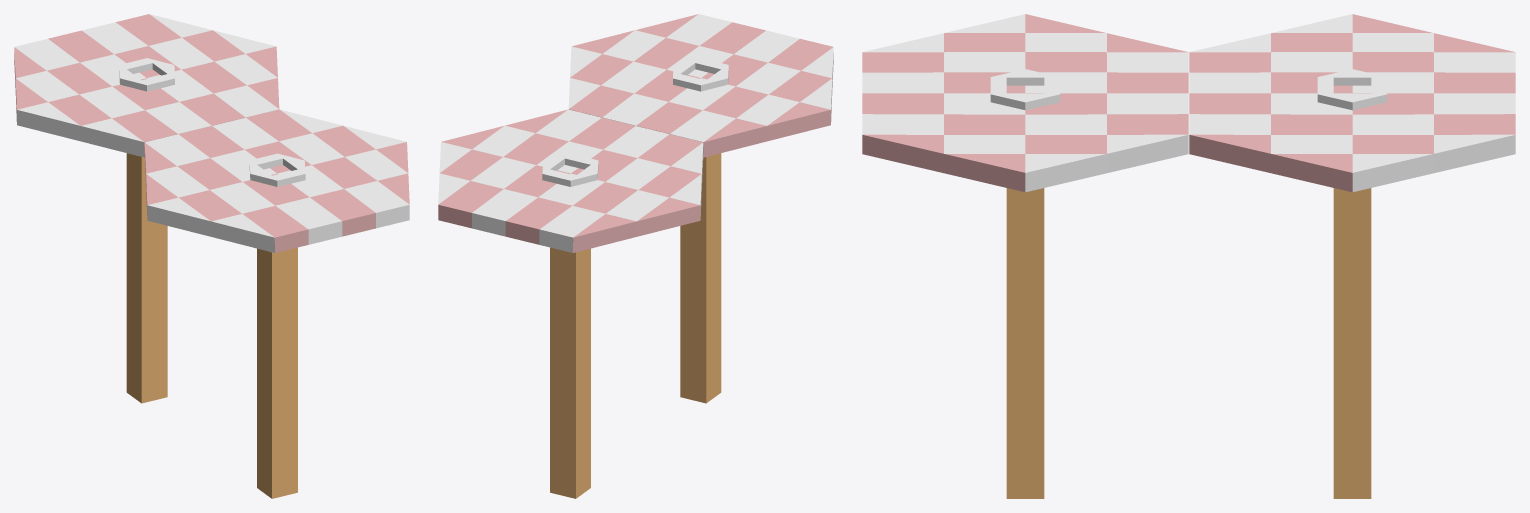
The model's file is plataforma2.glb.
3 views of the same model, side by side, from view 1: azimuth 30°, elevation 25°; view 2: azimuth 150°, elevation 25°; view 3: azimuth 270°, elevation 25° (orthographic). The views are drawn at different scales.
Parts seen in each view (by area): view 1: Cube.001, Cube.002; view 2: Cube.001, Cube.002; view 3: Cube.001, Cube.002.
Part boxes in pixels (x1,y1,x2,y2): Cube.001: (14, 14, 409, 498); Cube.002: (14, 14, 279, 398); Cube.001: (438, 14, 833, 498); Cube.002: (438, 109, 702, 498); Cube.001: (862, 14, 1515, 498); Cube.002: (1189, 14, 1515, 498).
Size of the model in its own units: 1.69 by 2.01 by 2.94.
